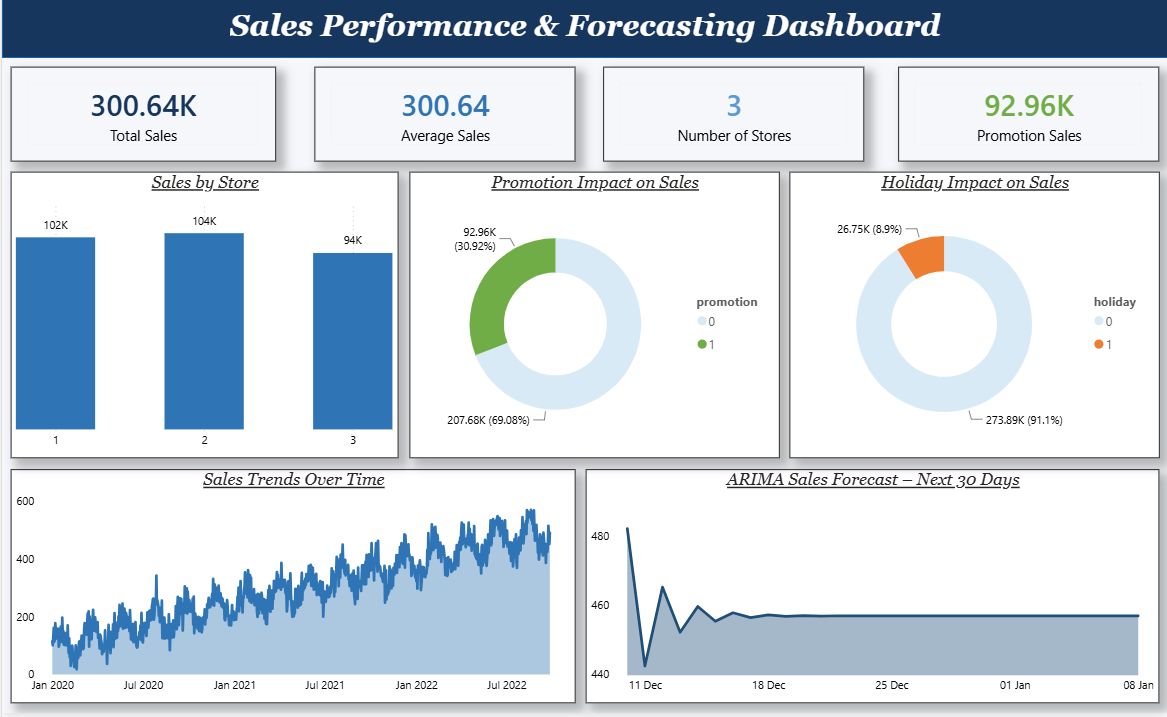

The page's visual inventory and layout, read from the dashboard file:
{"tool":"powerbi","page":{"name":"Page 1","canvas":[1280,790],"ordinal":0},"visuals":[{"type":"shape","box":[0,0,1280.3,71.4],"z":0},{"type":"cardVisual","fields":{"Data":["Measure Table.Total Sales"]},"box":[9.6,81,290.9,104.3],"z":1000},{"type":"cardVisual","fields":{"Data":["Measure Table.Average Sales"]},"box":[343.1,81,286.8,104.3],"z":2000},{"type":"cardVisual","fields":{"Data":["Measure Table.Number of Stores"]},"box":[660,81,286.8,104.3],"z":3000},{"type":"cardVisual","fields":{"Data":["Measure Table.Promotion Sales"]},"box":[983.9,81,286.8,104.3],"z":4000},{"type":"lineChart","title":"Sales Trends Over Time","fields":{"Y":["Measure Table.Total Sales"],"Category":["Date Table.Date"]},"box":[9.6,522.8,620.2,256.6],"z":5000},{"type":"lineChart","title":"ARIMA Sales Forecast – Next 30 Days","fields":{"Y":["Sum(forecast_results.forecast_sales)"],"Category":["forecast_results.date"]},"box":[640.8,522.8,629.8,256.6],"z":6000},{"type":"clusteredColumnChart","title":"Sales by Store","fields":{"Category":["sales_forecasting_data.store_id"],"Y":["Measure Table.Total Sales"]},"box":[9.6,196.2,425.4,314.2],"z":7000},{"type":"donutChart","title":"Promotion Impact on Sales","fields":{"Category":["sales_forecasting_data.promotion"],"Y":["Measure Table.Total Sales"]},"box":[447.3,196.2,406.2,314.2],"z":8000},{"type":"donutChart","title":"Holiday Impact on Sales","fields":{"Category":["sales_forecasting_data.holiday"],"Y":["Measure Table.Total Sales"]},"box":[864.5,196.2,406.2,314.2],"z":9000}]}

Visuals, with their boxes in screenshot pixels (x1, y1, x2, y2), scaled from the page's 1280x790 canvas onto the 1167x717 screenshot:
shape: Rect(0, 0, 1166, 65)
cardVisual - Measure Table.Total Sales: Rect(9, 74, 274, 168)
cardVisual - Measure Table.Average Sales: Rect(313, 74, 574, 168)
cardVisual - Measure Table.Number of Stores: Rect(602, 74, 863, 168)
cardVisual - Measure Table.Promotion Sales: Rect(897, 74, 1159, 168)
"Sales Trends Over Time" lineChart: Rect(9, 474, 574, 707)
"ARIMA Sales Forecast – Next 30 Days" lineChart: Rect(584, 474, 1158, 707)
"Sales by Store" clusteredColumnChart: Rect(9, 178, 397, 463)
"Promotion Impact on Sales" donutChart: Rect(408, 178, 778, 463)
"Holiday Impact on Sales" donutChart: Rect(788, 178, 1159, 463)
